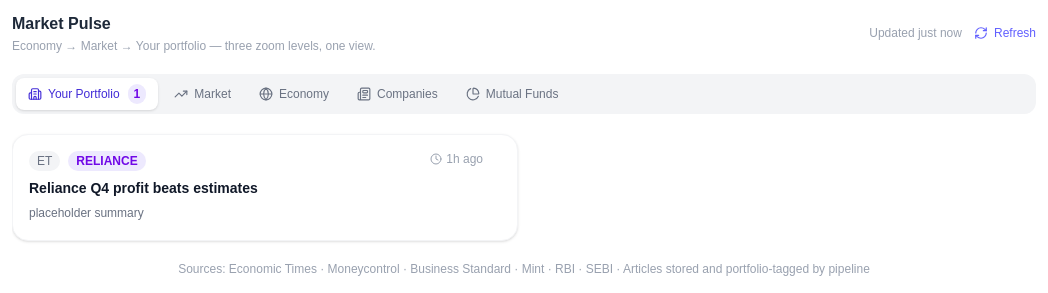
Test: NewsPanel › switches to Mutual Funds tab
This screenshot has width=1048, height=293.
Click the button "Mutual Funds". click: click(512, 94)
box: x1=454 y1=78 x2=570 y2=110
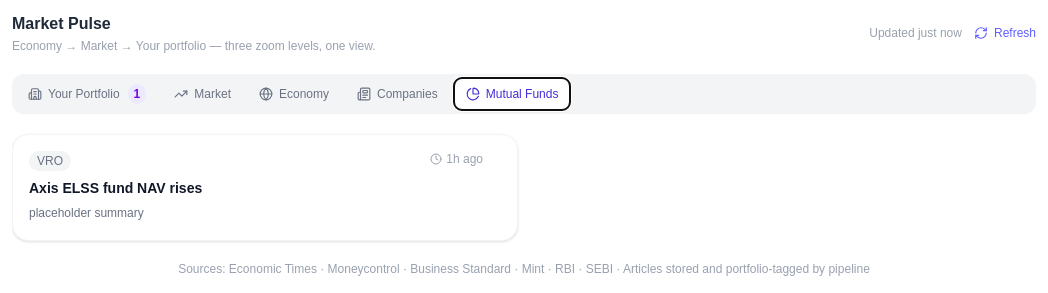
Expected: the text "Axis ELSS fund NAV rises" is shown, x1=29 y1=180 x2=202 y2=196
